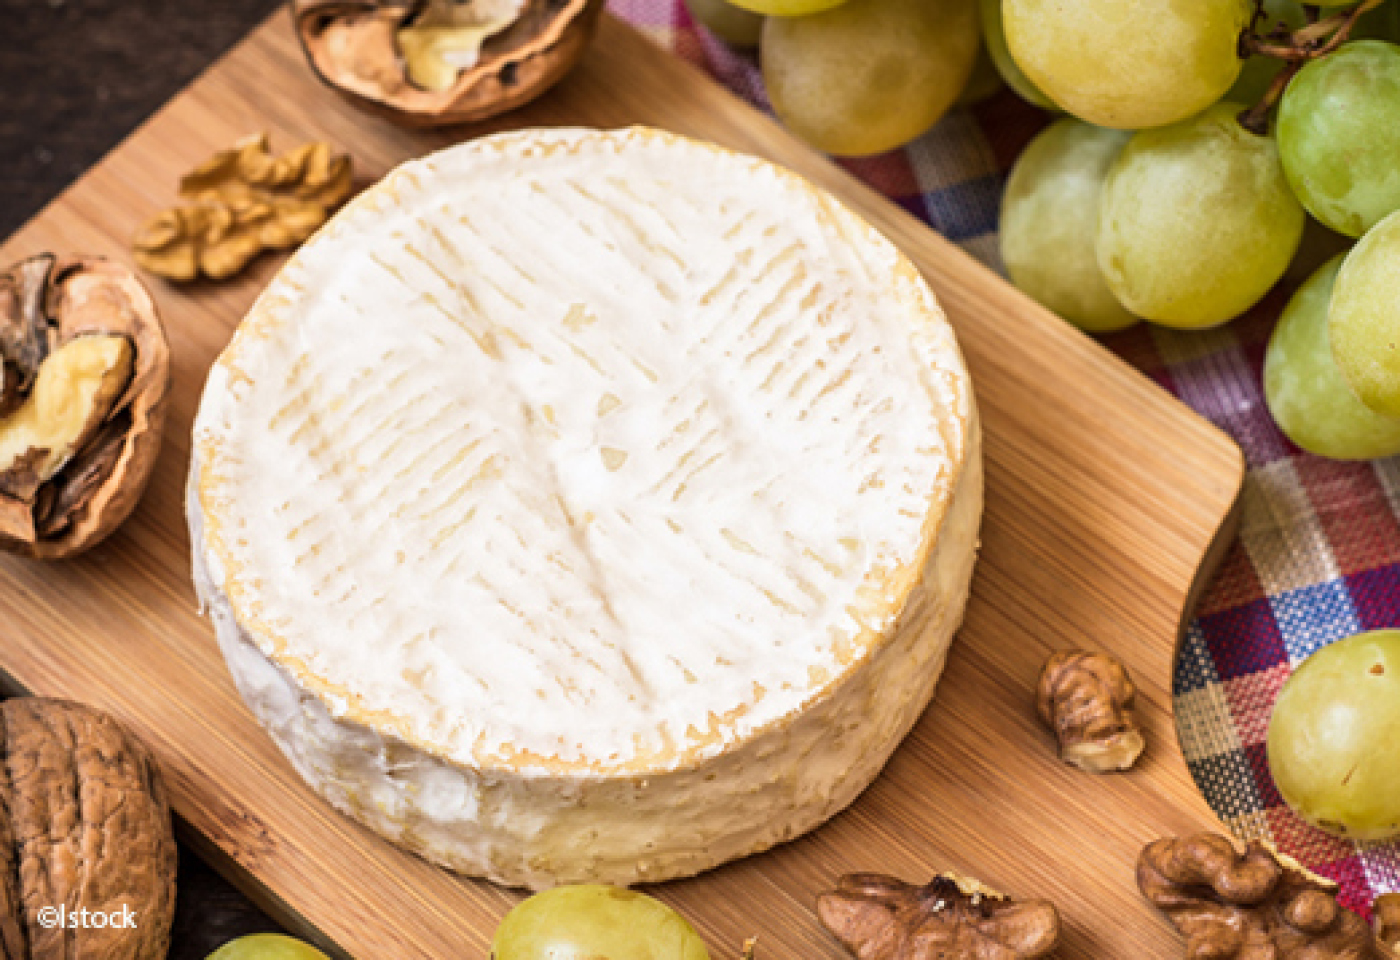camembert: (181, 123, 990, 897)
